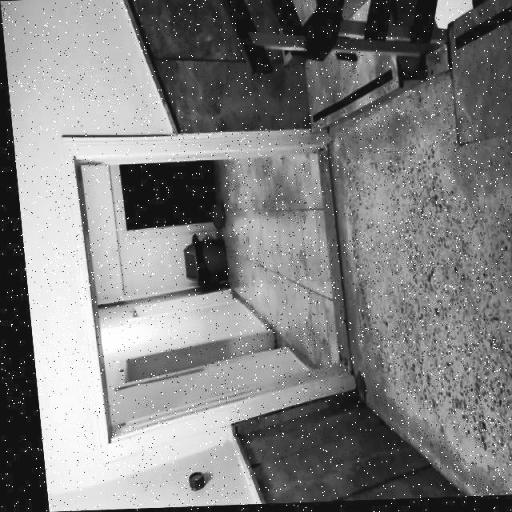balloon: (200, 198, 224, 234)
